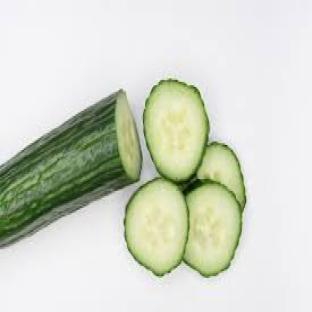Cucumber: (0, 91, 141, 245), (143, 81, 209, 182), (125, 178, 188, 276), (184, 181, 241, 276), (197, 142, 246, 209)
